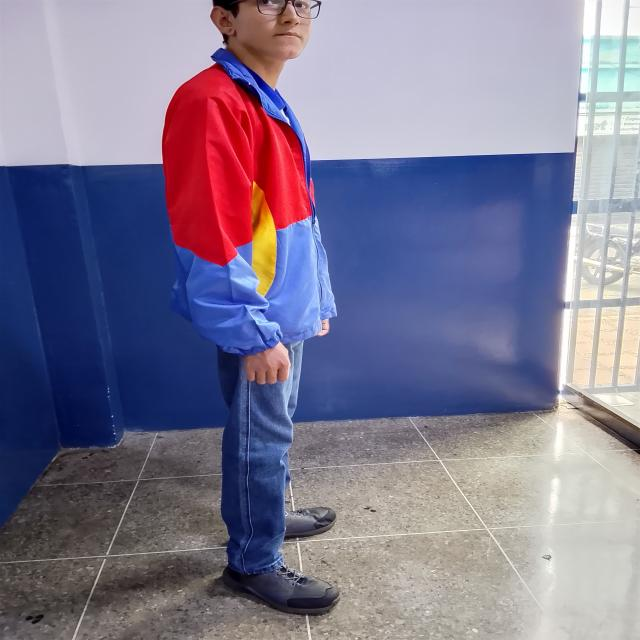chaqueta_unefa: (161, 46, 338, 358)
